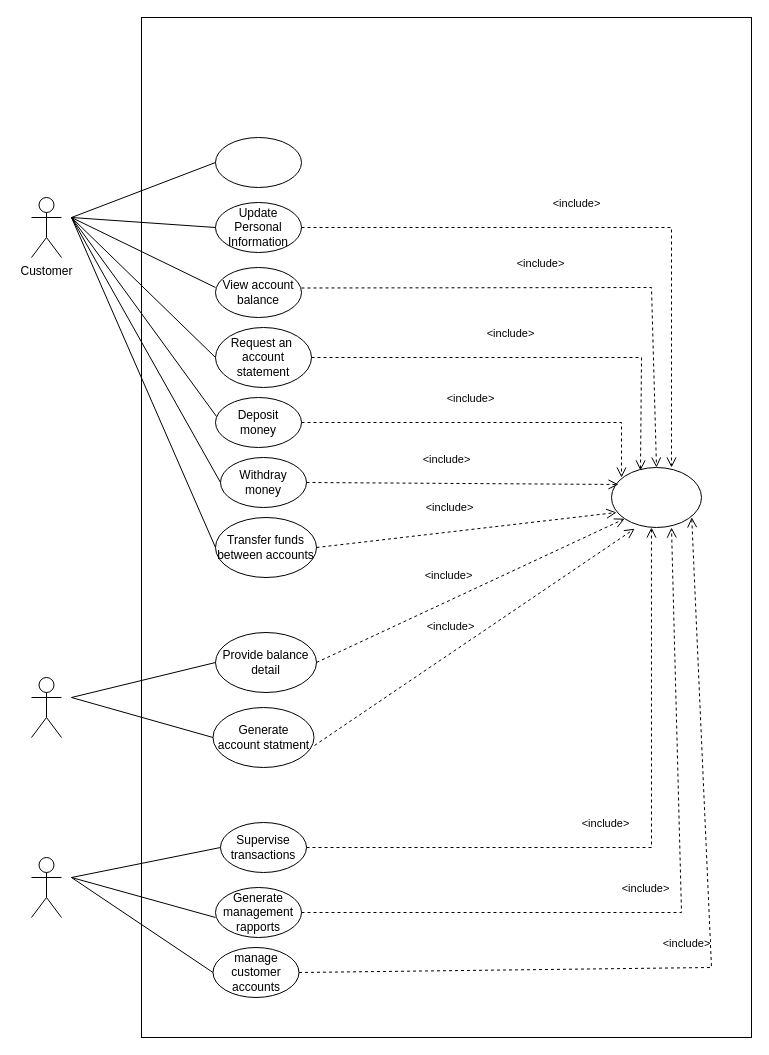
The diagram is 769 pixels wide and 1055 high, and some of its shapes have lost their labels. The shapes that lost their labels are listed below. From the top down, each one's box as (x1, y1, x2, y2) in pixels, then its label:
(214, 136, 302, 188): Manage account
(610, 466, 702, 528): To log in
(30, 676, 62, 738): Bank Teller
(30, 856, 62, 918): Admin
